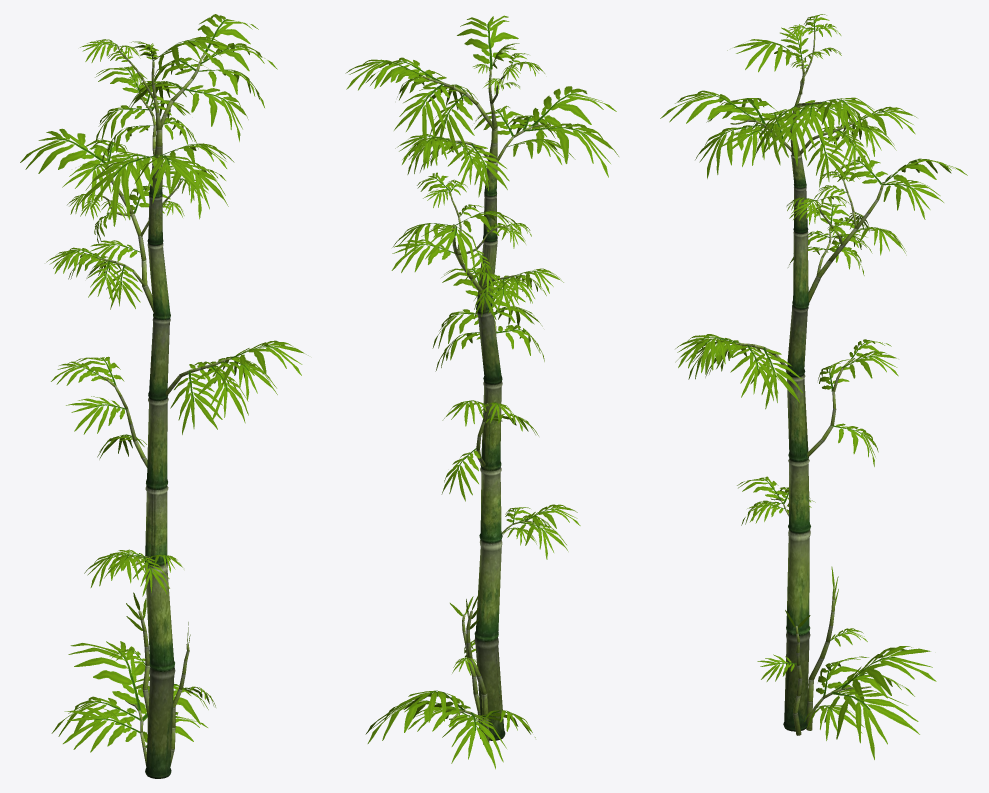
The model's file is bamboo_b.glb.
The picture shows the model from 3 angles, left to right: view 1: azimuth 30°, elevation 25°; view 2: azimuth 150°, elevation 25°; view 3: azimuth 270°, elevation 25°; orthographic projection. The views are drawn at different scales.
Visible parts, largest first — view 1: Forest_bamboo_b; view 2: Forest_bamboo_b; view 3: Forest_bamboo_b.
Boxes of the visible parts, x1,y1,x2,y2 form: Forest_bamboo_b: (20, 14, 308, 778); Forest_bamboo_b: (345, 15, 618, 769); Forest_bamboo_b: (660, 14, 967, 759).
Bounding box in the file's own units: 2.77 × 8.28 × 3.43.
Materials: 3 (3 with a texture image).
